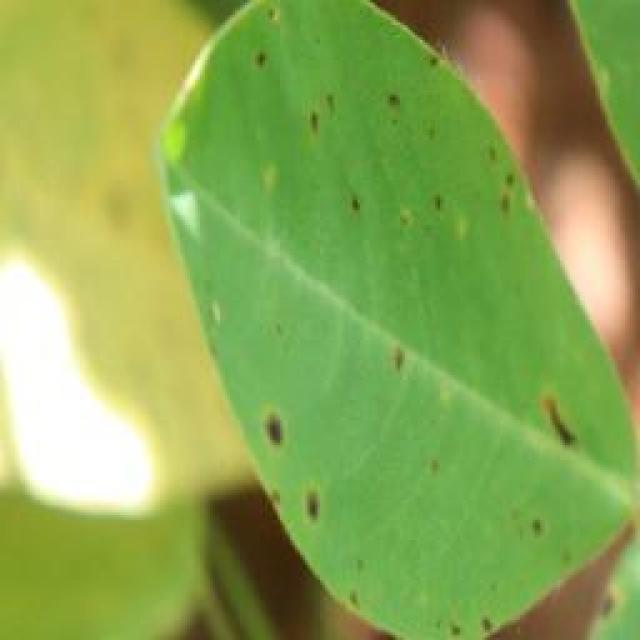Sigatoka: (404, 161, 476, 254), (474, 128, 521, 243), (277, 464, 347, 540), (517, 496, 585, 574), (240, 0, 298, 91), (364, 317, 423, 396), (325, 542, 377, 626), (284, 90, 354, 150), (538, 380, 589, 454), (260, 401, 314, 468), (325, 148, 363, 227), (418, 605, 502, 637), (414, 40, 454, 97), (373, 75, 417, 122), (416, 456, 454, 496)
